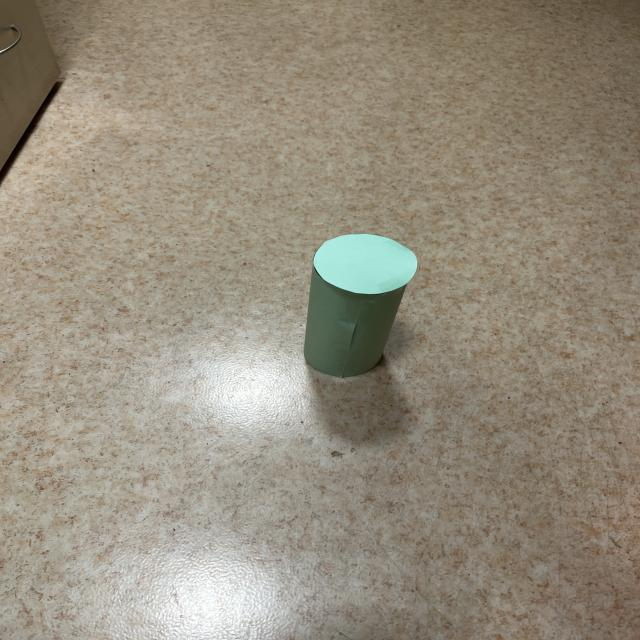meta: (304, 234, 417, 377)
